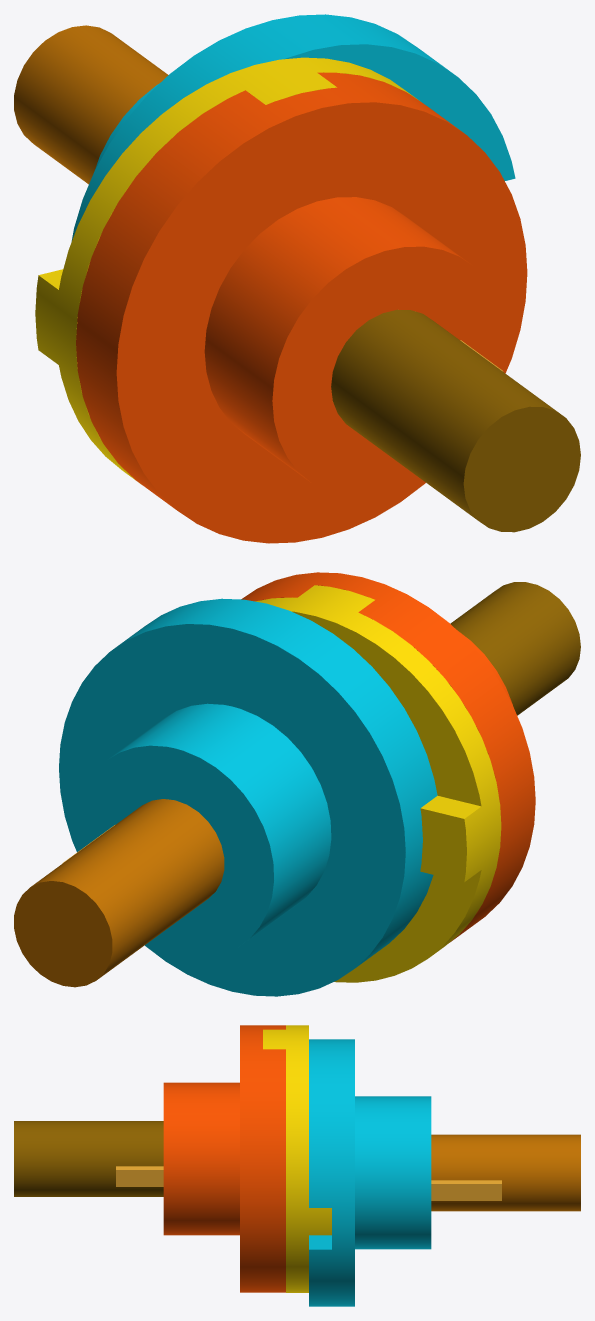
File: oldham_coupling_assem.glb
3 views of the same model, one above another, from view 1: azimuth 30°, elevation 25°; view 2: azimuth 150°, elevation 25°; view 3: azimuth 270°, elevation 25° (orthographic). The views are drawn at different scales.
Visible parts, largest first — view 1: Flange 1-1, Flange 2-1, Center Block-1; view 2: Flange 2-1, Flange 1-1, Center Block-1; view 3: Flange 1-1, Flange 2-1, Center Block-1, Key-5, Key-2.
Part boxes in pixels (<box>): Flange 1-1: <box>76,72,580,543</box>; Flange 2-1: <box>14,14,515,241</box>; Center Block-1: <box>35,57,419,480</box>; Flange 2-1: <box>14,598,437,996</box>; Flange 1-1: <box>241,572,580,942</box>; Center Block-1: <box>255,585,501,982</box>; Flange 1-1: <box>14,1025,285,1292</box>; Flange 2-1: <box>309,1039,580,1306</box>; Center Block-1: <box>263,1025,331,1292</box>; Key-5: <box>431,1180,501,1200</box>; Key-2: <box>116,1166,163,1186</box>.
Bounding box in the file's own units: 0.1775 × 0.1577 × 0.3335.
